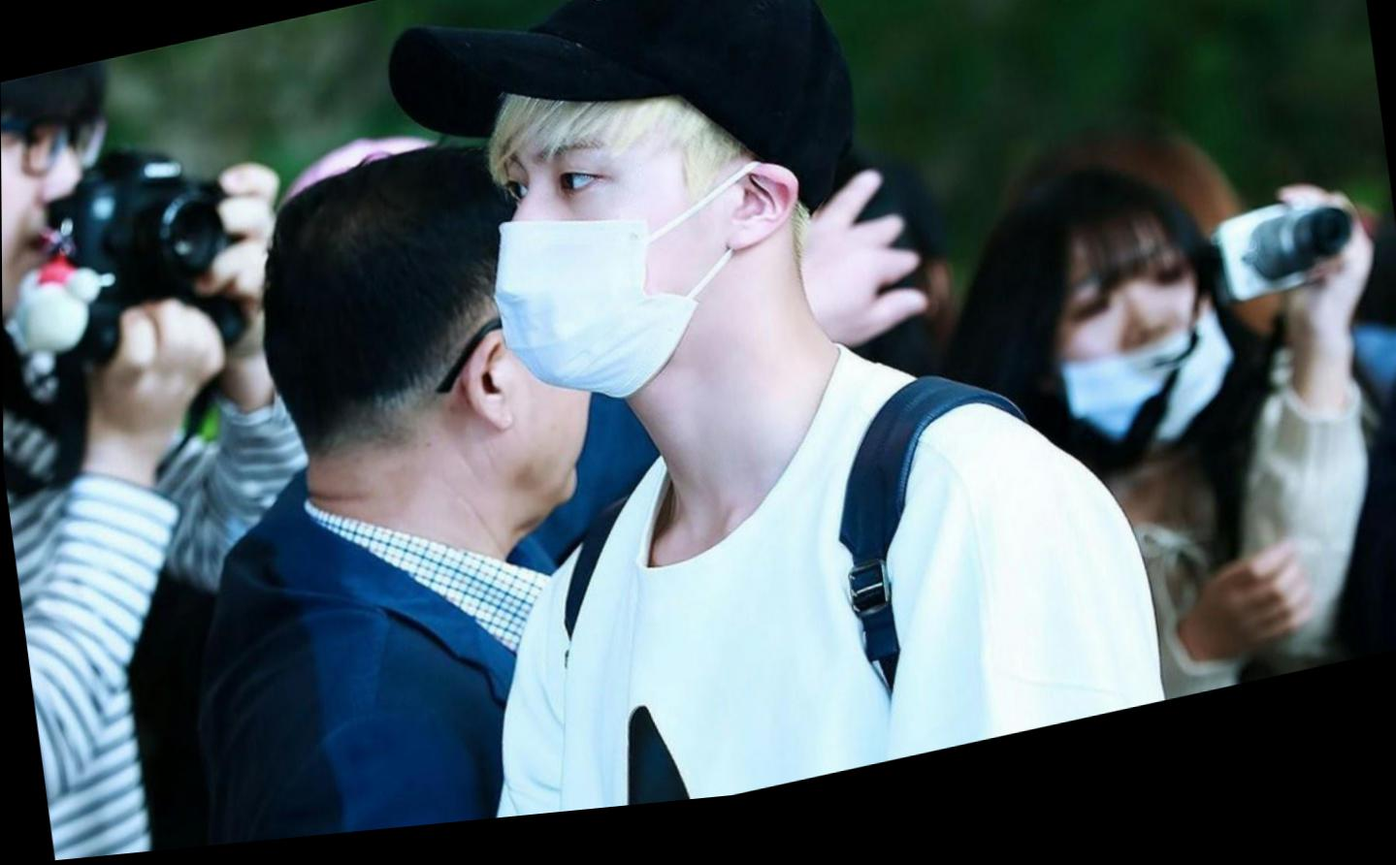NONE: (2, 106, 111, 315)
OK: (475, 90, 786, 422)
WRONG: (1049, 270, 1233, 477)
